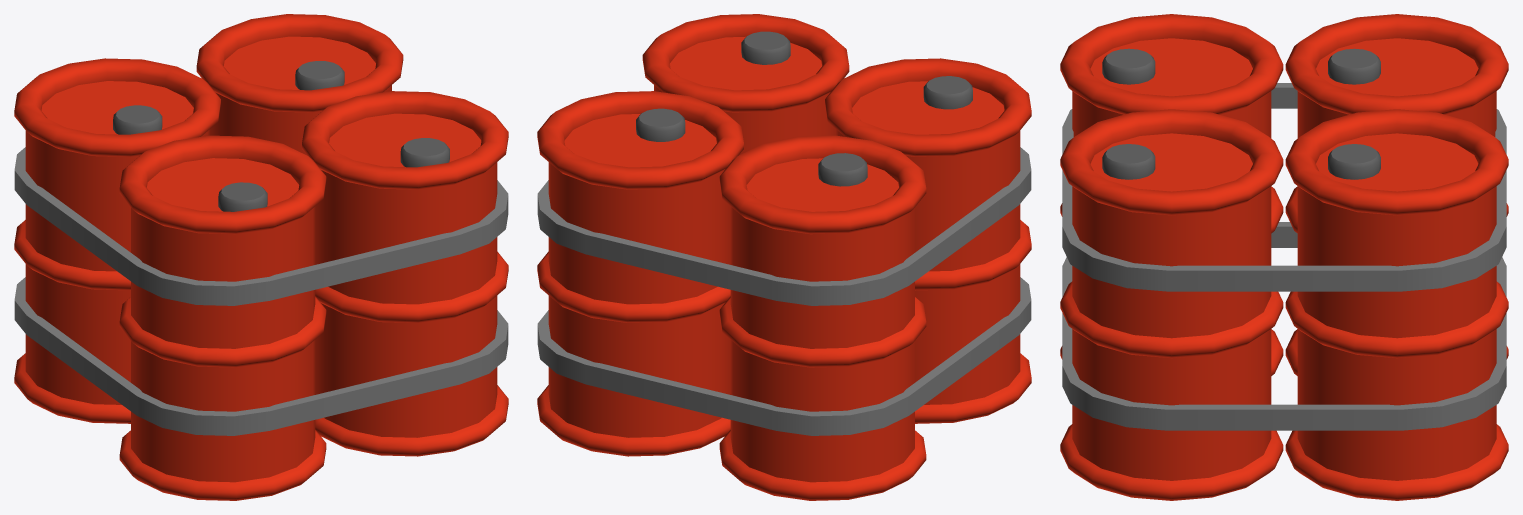
File: SRA_Oil_Barrel_Stack_Red.glb
The picture shows the model from 3 angles, left to right: view 1: azimuth 30°, elevation 25°; view 2: azimuth 150°, elevation 25°; view 3: azimuth 270°, elevation 25°; orthographic projection. The views are drawn at different scales.
Parts seen in each view (by area): view 1: Oil_Barrel_Stack_Red; view 2: Oil_Barrel_Stack_Red; view 3: Oil_Barrel_Stack_Red.
Part boxes in pixels (x1,y1,x2,y2): Oil_Barrel_Stack_Red: [14, 14, 508, 500]; Oil_Barrel_Stack_Red: [537, 14, 1031, 500]; Oil_Barrel_Stack_Red: [1060, 14, 1508, 500].
Size of the model in its own units: 0.8038 by 0.5999 by 0.8043.
1 material, 1 textured.
